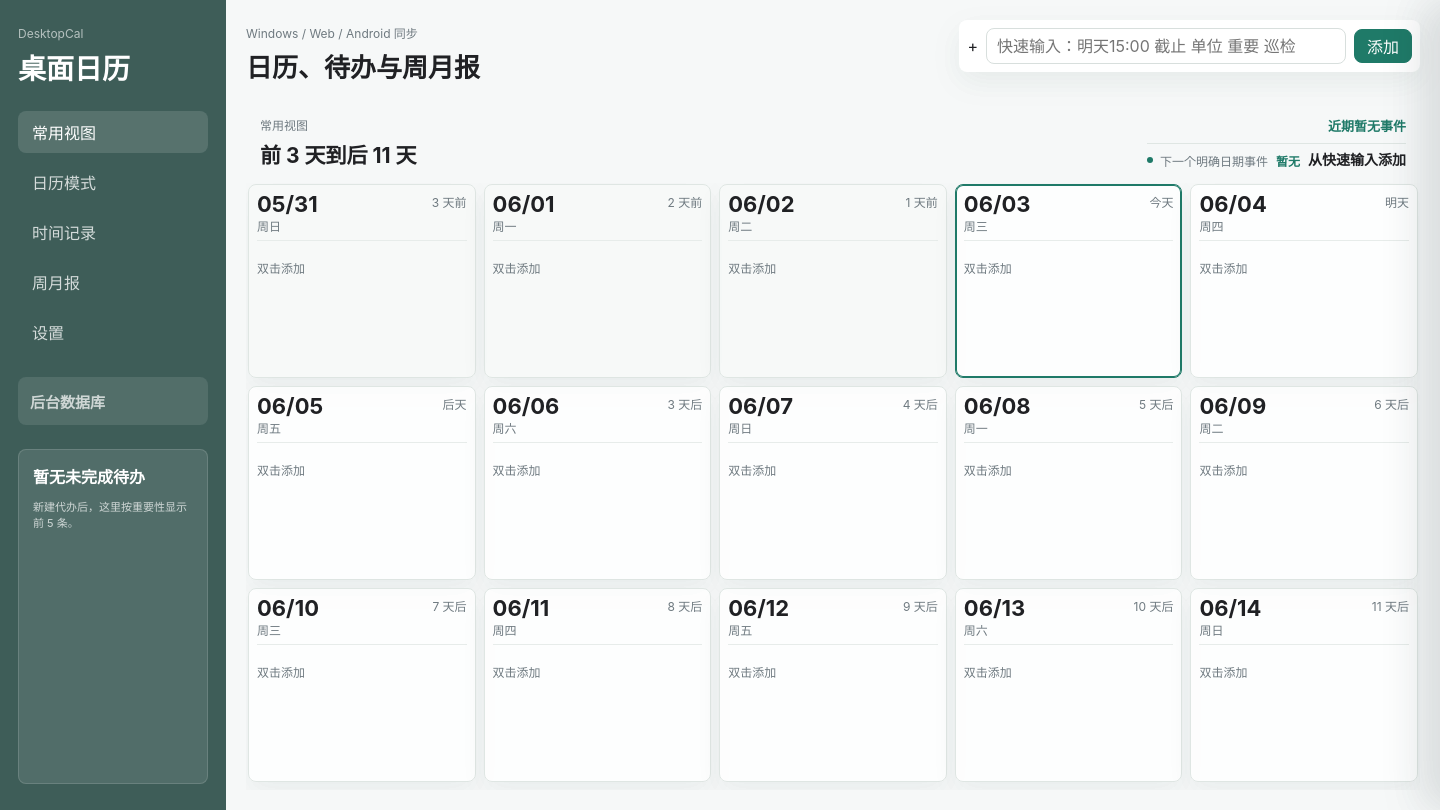
App event interactions › parses quick add text and opens the drawer for confirmation
The image size is (1440, 810).
Expected: the text "近期暂无事件" is shown, [1328,116,1406,135]
Type "明天 15:30 截止 单位 5星 中央巡检" into the field named "Quick add title" at point(1166, 46), box [986,28,1346,64]
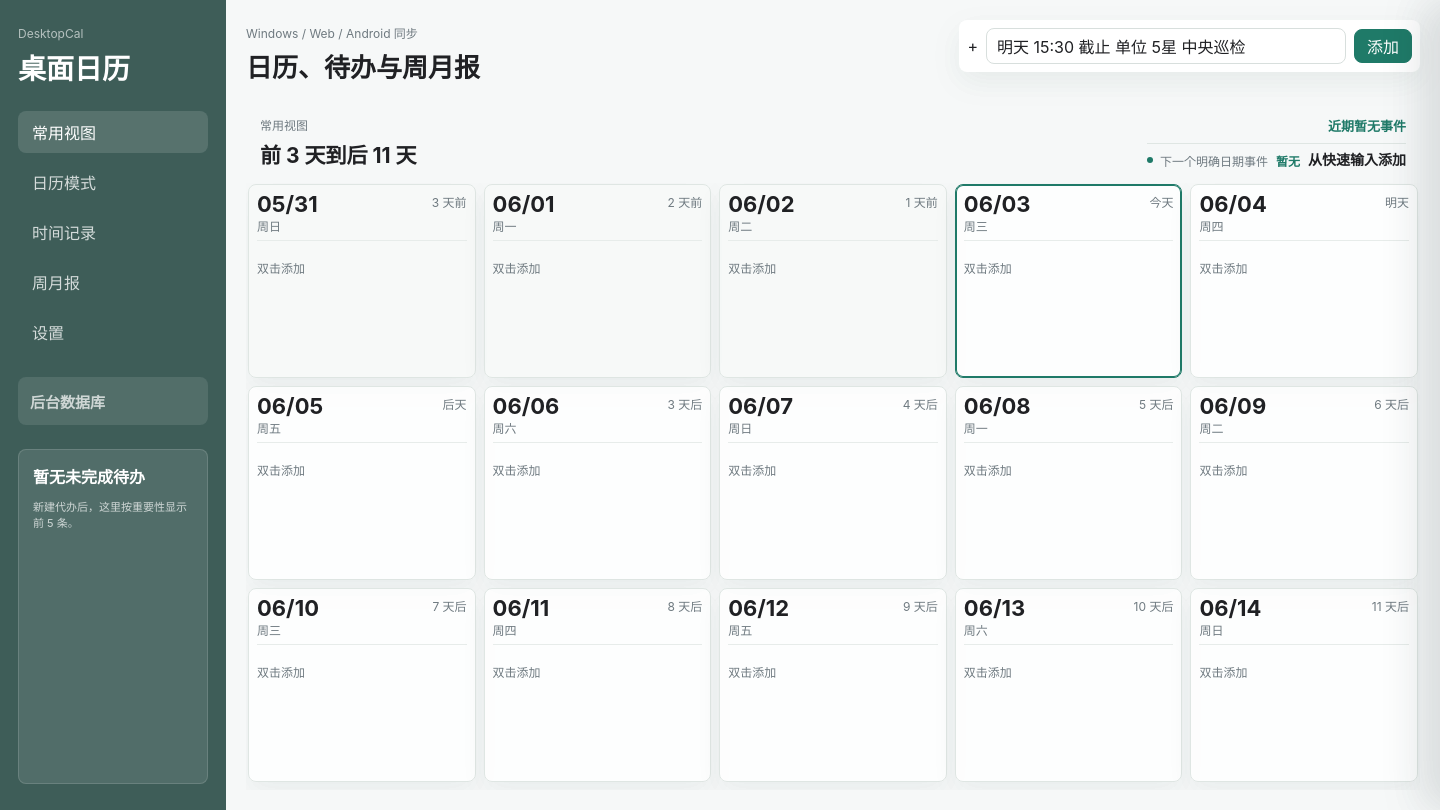
Click the button "添加" at point(1383, 46), box [1354,29,1412,63]
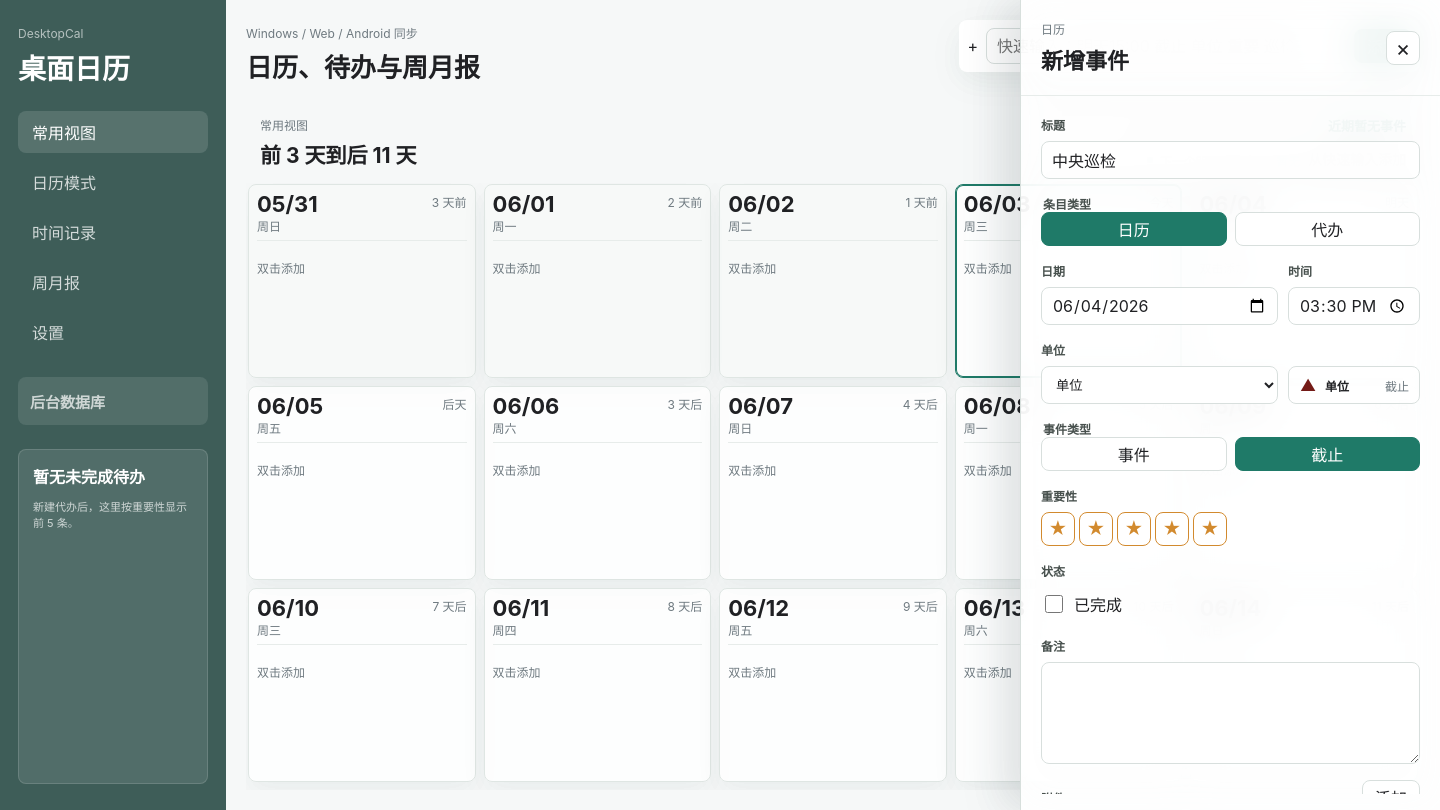
Expected: the heading "新增事件" is shown, [1041,43,1129,75]
Now the time field labelled "时间" holds "15:30", box [1288,287,1420,325]
Now the field labelled "标题" holds "中央巡检", box [1041,141,1420,179]
